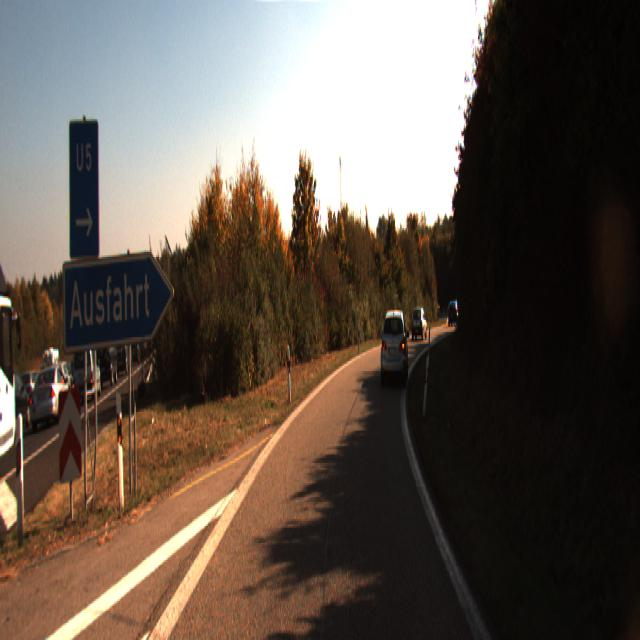Car: (0, 182, 21, 472), (29, 359, 72, 431), (380, 305, 409, 384), (73, 341, 101, 405), (412, 306, 426, 341), (448, 300, 461, 324)
